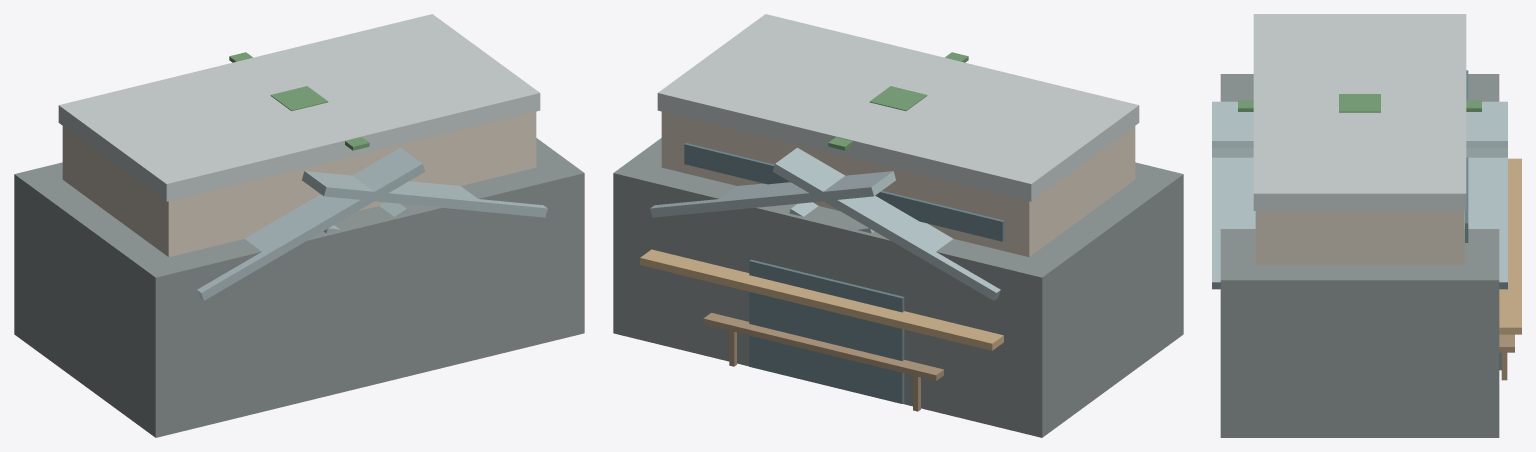
The model's file is pv-kit.gltf.
The picture shows the model from 3 angles, left to right: view 1: azimuth 30°, elevation 25°; view 2: azimuth 150°, elevation 25°; view 3: azimuth 270°, elevation 25°; orthographic projection.
Parts seen in each view (by area): view 1: body (×2), parapet, roofL, roofR, crown; view 2: body (×2), parapet, door, awning, roofL, win2, roofR, veranda, crown; view 3: body (×2), parapet, roofR, awning, roofL, crown, win2.
Part boxes in pixels (bbox=[...]): body (×2): bbox=[14, 111, 584, 437]; parapet: bbox=[58, 14, 540, 201]; roofL: bbox=[197, 147, 425, 300]; roofR: bbox=[302, 171, 547, 217]; crown: bbox=[270, 86, 328, 110]; body (×2): bbox=[613, 111, 1183, 437]; parapet: bbox=[657, 14, 1139, 201]; door: bbox=[749, 259, 904, 403]; awning: bbox=[640, 249, 1003, 350]; roofL: bbox=[772, 147, 1000, 300]; win2: bbox=[684, 143, 1004, 241]; roofR: bbox=[650, 171, 895, 217]; veranda: bbox=[703, 313, 943, 380]; crown: bbox=[869, 86, 927, 110]; body (×2): bbox=[1220, 74, 1499, 437]; parapet: bbox=[1253, 14, 1466, 210]; roofR: bbox=[1212, 101, 1507, 289]; awning: bbox=[1499, 158, 1521, 334]; roofL: bbox=[1212, 141, 1507, 157]; crown: bbox=[1339, 94, 1380, 112]; win2: bbox=[1465, 70, 1468, 242].
Size of the model in its own units: 14 by 7.35 by 8.9.
